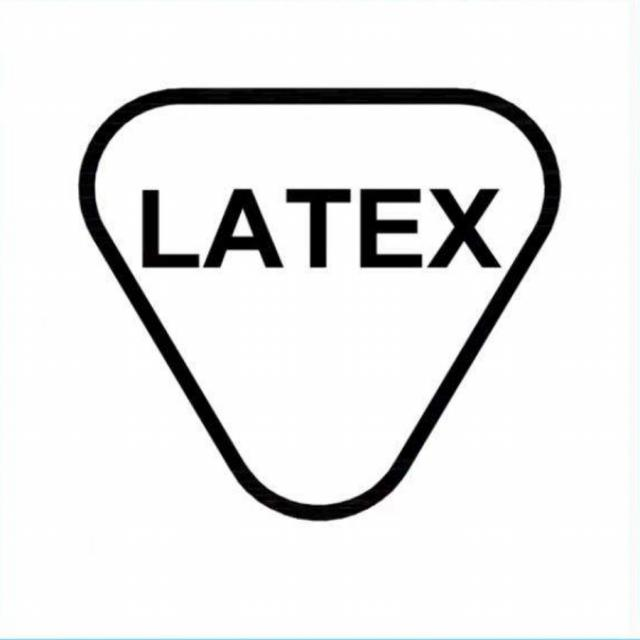Contains Latex: (76, 82, 565, 527)
